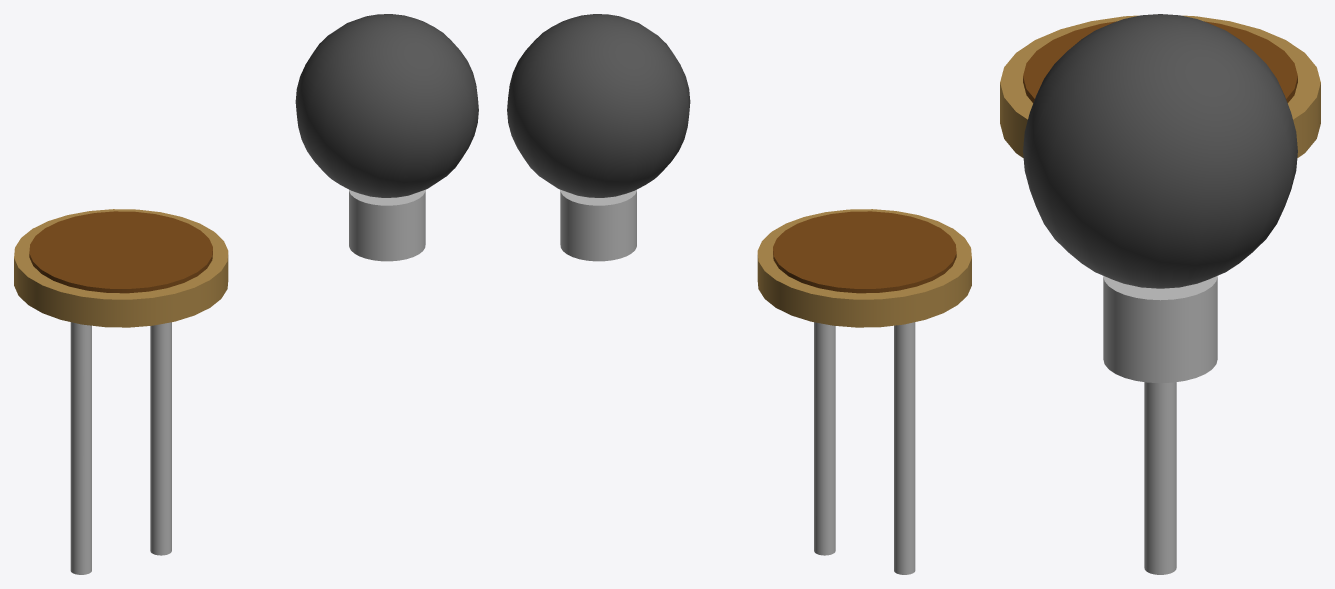
The model's file is ldr.glb.
The picture shows the model from 3 angles, left to right: view 1: azimuth 30°, elevation 25°; view 2: azimuth 150°, elevation 25°; view 3: azimuth 270°, elevation 25°; orthographic projection. The views are drawn at different scales.
Bounding box in the file's own units: 0.33 × 0.34 × 0.14.
